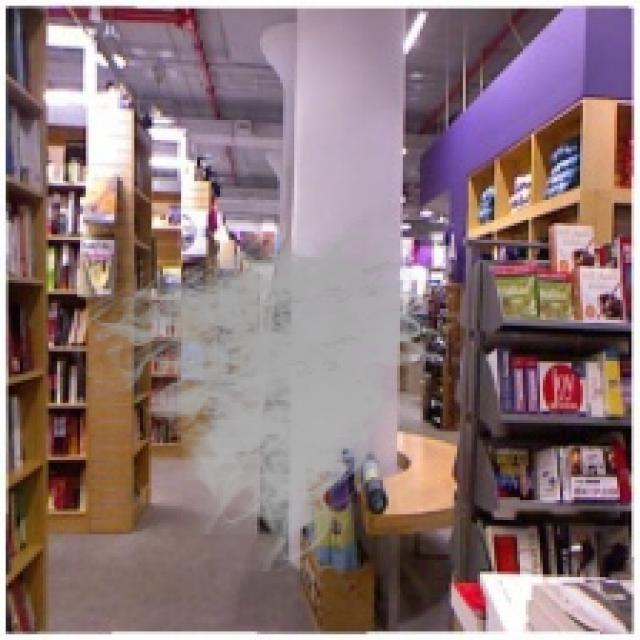Smoke: (60, 212, 460, 572)
